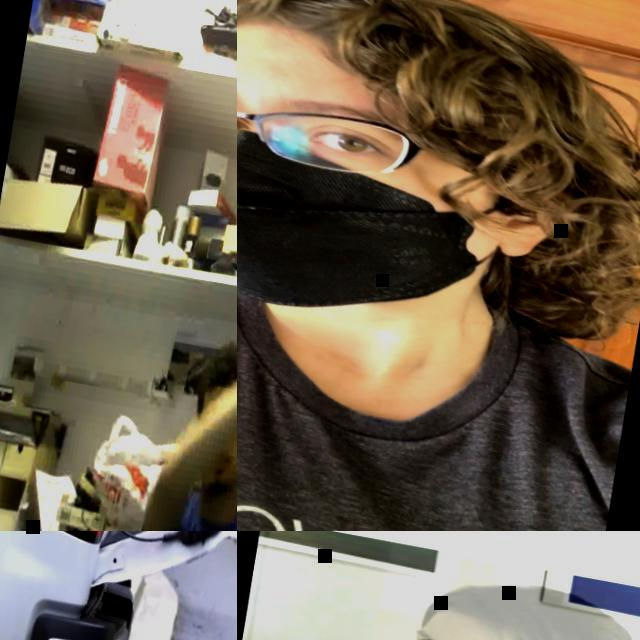mask: (237, 117, 533, 349)
no_helmet: (237, 0, 606, 138), (428, 569, 626, 640), (198, 335, 237, 408)
no_mask: (196, 446, 237, 498)
no_vest: (237, 233, 638, 531), (145, 491, 237, 531)
person: (237, 0, 640, 531), (127, 262, 237, 531), (330, 558, 640, 640)
vehicle: (0, 531, 237, 640)
